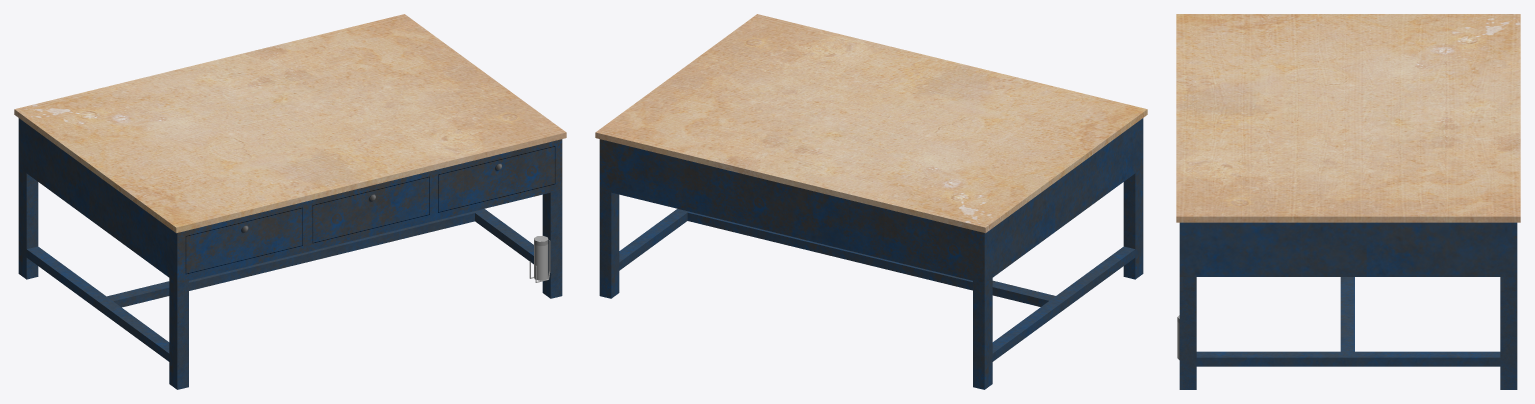
Rendered from YF_Model_pengu.FBX.
3 views of the same model, side by side, from view 1: azimuth 30°, elevation 25°; view 2: azimuth 150°, elevation 25°; view 3: azimuth 270°, elevation 25° (orthographic). The views are drawn at different scales.
Parts seen in each view (by area): view 1: YF_0295; view 2: YF_0295; view 3: YF_0295.
Part boxes in pixels (x1=…): YF_0295: x1=14, y1=14, x2=566, y2=389; YF_0295: x1=595, y1=14, x2=1147, y2=389; YF_0295: x1=1176, y1=14, x2=1520, y2=389.
Size of the model in its own units: 146 by 58.73 by 105.
2 materials, 2 textured.
